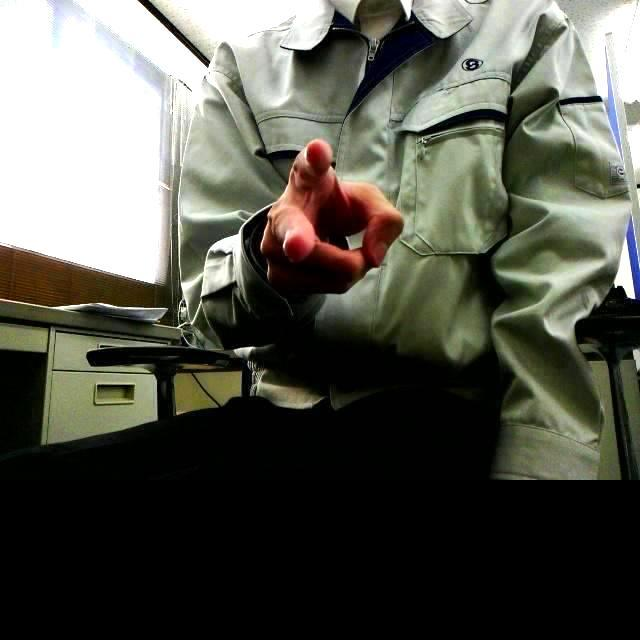tyoki: (260, 138, 403, 296)
